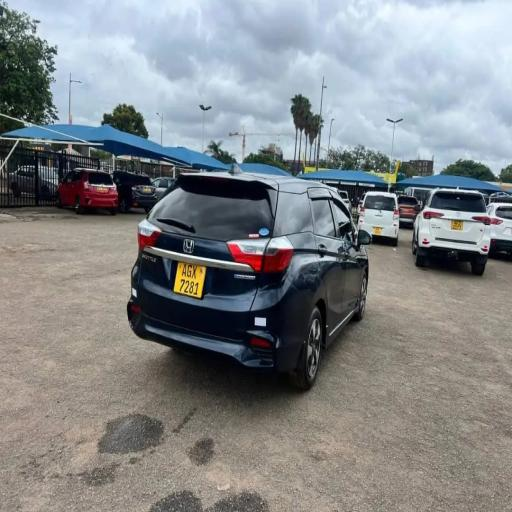number-plates: (175, 256, 203, 296)
